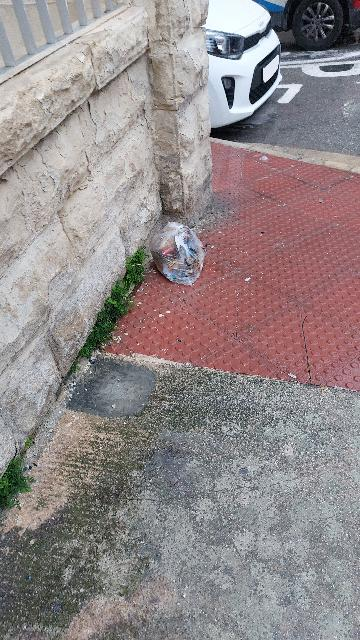Organic -White-: (151, 222, 206, 285)
